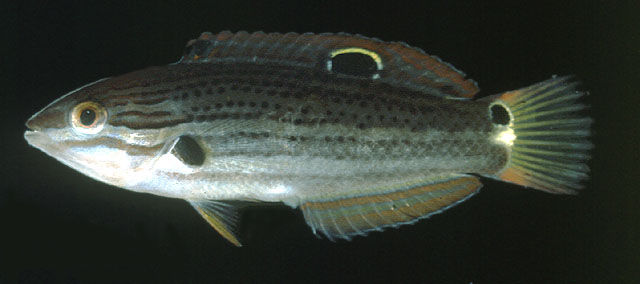fish: (21, 29, 595, 248)
